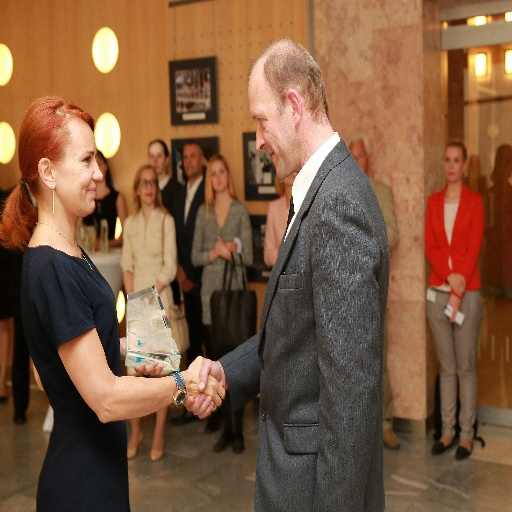hand: (115, 305, 167, 377), (181, 354, 228, 423), (449, 269, 466, 298), (445, 292, 458, 324), (211, 232, 225, 259), (181, 278, 196, 292), (176, 265, 183, 288), (226, 240, 239, 252), (140, 292, 152, 303)
